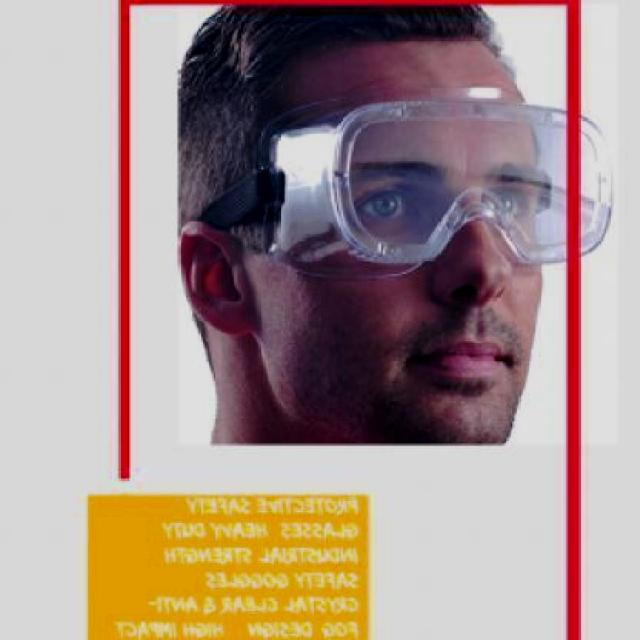face_nomask: (348, 158, 558, 398)
glasses: (244, 92, 619, 274)
